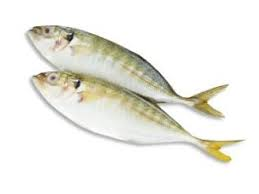Ikan Selar: (29, 73, 239, 163), (28, 24, 229, 99)
